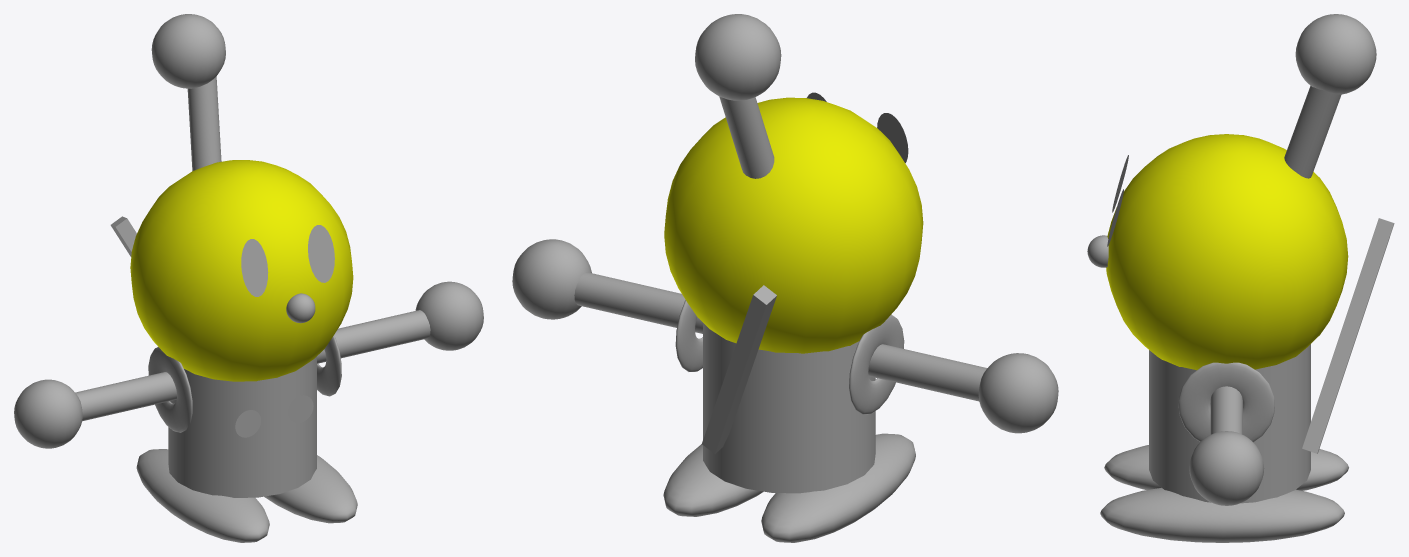
The model's file is korosuke.fbx.
The picture shows the model from 3 angles, left to right: view 1: azimuth 30°, elevation 25°; view 2: azimuth 150°, elevation 25°; view 3: azimuth 270°, elevation 25°; orthographic projection. The views are drawn at different scales.
Parts seen in each view (by area): view 1: pSphere2, pCylinder1, pSphere1, pSphere4, pSphere5, pasted__pSphere5, pasted__pSphere1, pCylinder2, pasted__pCylinder2, pCylinder3, pasted__pTorus1, pDisc3 (+5 smaller); view 2: pSphere2, pCylinder1, pSphere1, pSphere4, pSphere5, pasted__pSphere5, pCube1, pasted__pCylinder2, pCylinder2, pasted__pSphere1, pasted__pTorus1, pCylinder3 (+2 smaller); view 3: pSphere2, pCylinder1, pasted__pSphere1, pSphere4, pTorus1, pasted__pSphere5, pCube1, pCylinder3, pSphere1, pCylinder2, pSphere3.
Part boxes in pixels (<box>): pSphere2: <box>130,160,353,381</box>; pCylinder1: <box>168,356,316,497</box>; pSphere1: <box>136,449,269,542</box>; pSphere4: <box>151,14,225,88</box>; pSphere5: <box>14,379,82,448</box>; pasted__pSphere5: <box>415,281,483,350</box>; pasted__pSphere1: <box>264,455,357,523</box>; pCylinder2: <box>317,310,430,363</box>; pasted__pCylinder2: <box>75,372,176,421</box>; pCylinder3: <box>187,76,221,170</box>; pasted__pTorus1: <box>148,347,192,432</box>; pDisc3: <box>241,239,268,296</box>; pSphere2: <box>664,97,923,353</box>; pCylinder1: <box>703,323,875,493</box>; pSphere1: <box>761,433,915,542</box>; pSphere4: <box>695,14,781,100</box>; pSphere5: <box>978,353,1058,433</box>; pasted__pSphere5: <box>512,239,591,319</box>; pCube1: <box>702,285,776,453</box>; pasted__pCylinder2: <box>868,344,987,401</box>; pCylinder2: <box>574,272,702,333</box>; pasted__pSphere1: <box>663,444,763,516</box>; pasted__pTorus1: <box>849,314,904,414</box>; pCylinder3: <box>719,96,774,178</box>; pSphere2: <box>1106,134,1348,370</box>; pCylinder1: <box>1149,344,1310,503</box>; pasted__pSphere1: <box>1100,487,1344,542</box>; pSphere4: <box>1295,14,1376,94</box>; pTorus1: <box>1178,362,1274,442</box>; pasted__pSphere5: <box>1189,431,1264,505</box>; pCube1: <box>1302,218,1394,453</box>; pCylinder3: <box>1284,86,1341,178</box>; pSphere1: <box>1104,445,1348,490</box>; pCylinder2: <box>1210,386,1242,434</box>; pSphere3: <box>1087,235,1108,267</box>.
Bounding box in the file's own units: 7.12 × 6.7 × 3.79.
